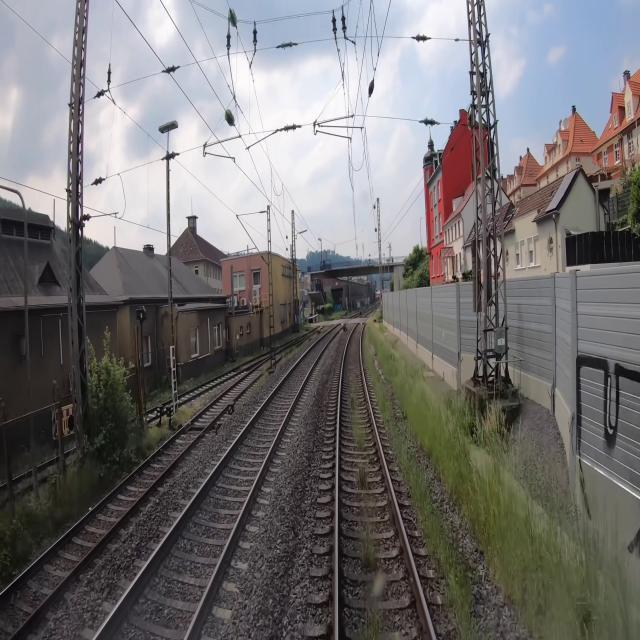Plant: (362, 326, 476, 639), (96, 436, 134, 483), (349, 371, 364, 449), (360, 524, 378, 572), (361, 607, 383, 639), (354, 461, 370, 489)
